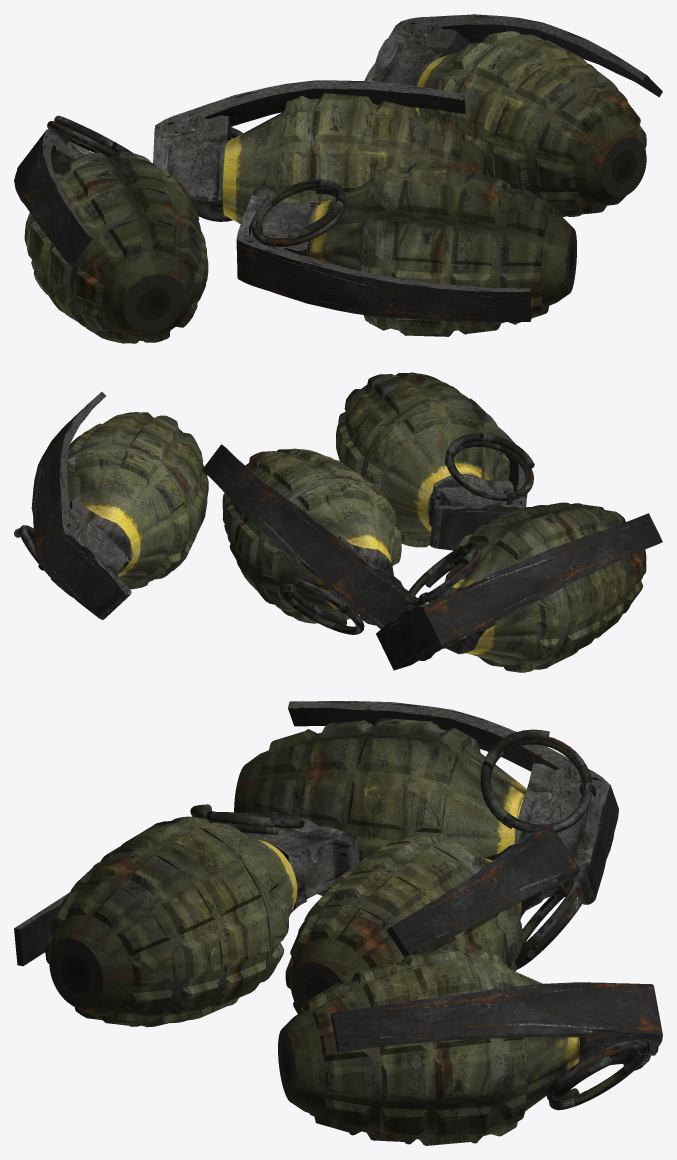
The model's file is Bamb.FBX.
The picture shows the model from 3 angles, top to bottom: view 1: azimuth 30°, elevation 25°; view 2: azimuth 150°, elevation 25°; view 3: azimuth 270°, elevation 25°; orthographic projection. The views are drawn at different scales.
Visible parts, largest first — view 1: Bamb; view 2: Bamb; view 3: Bamb.
Boxes of the visible parts, x1,y1,x2,y2 form: Bamb: (14, 14, 662, 343); Bamb: (14, 372, 662, 672); Bamb: (14, 701, 662, 1145).
Bounding box in the file's own units: 2.6 × 0.6905 × 2.11.
1 material, 1 textured.
